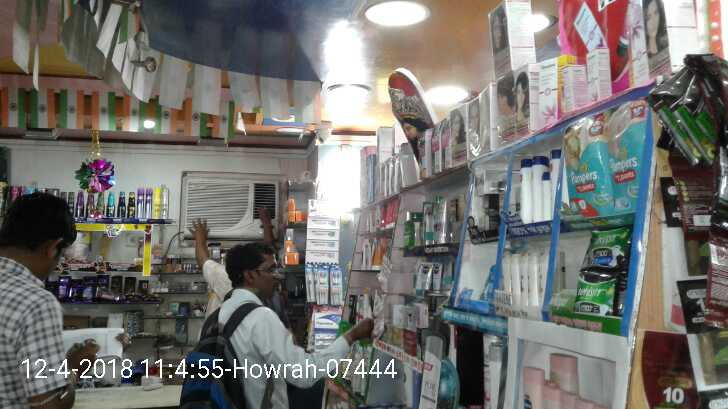venus: (481, 265, 495, 300)
